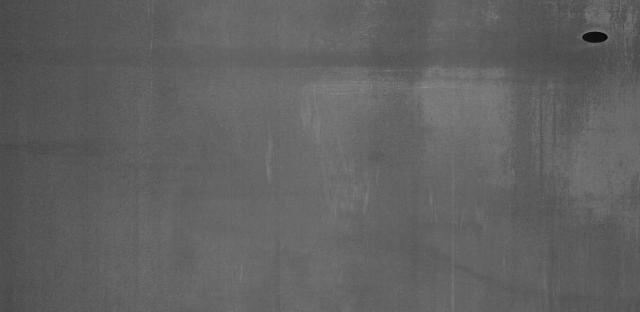punching_hole: (578, 29, 614, 46)
